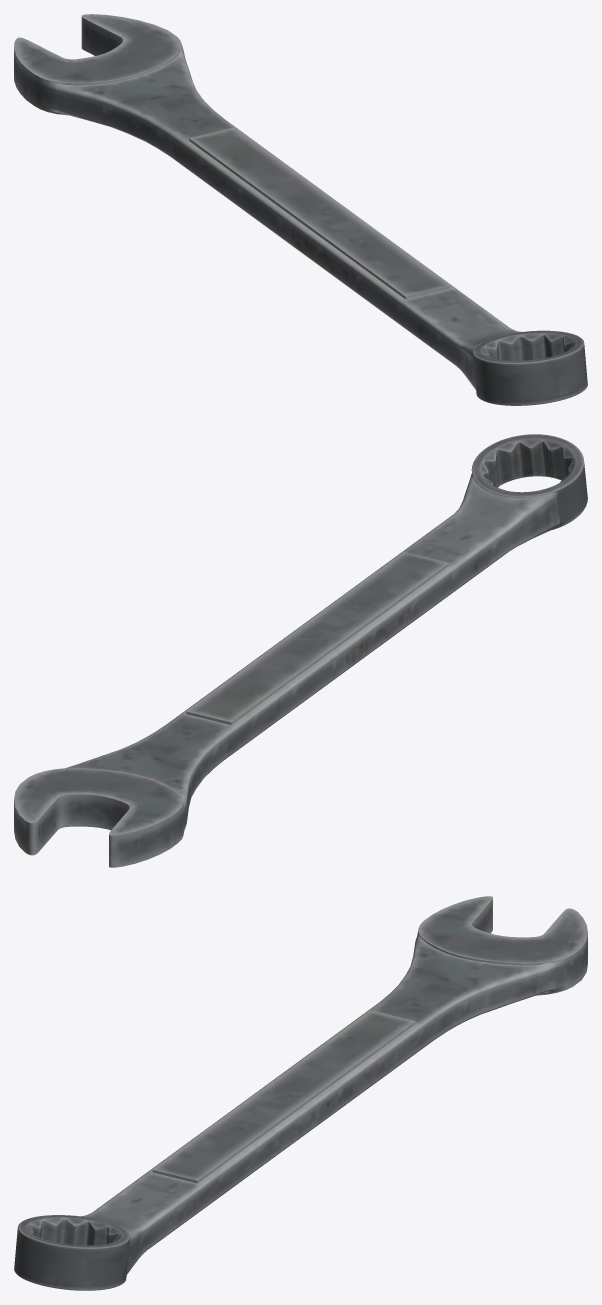
File: combination-wrench.glb
3 renders of one model, top to bottom at view 1: azimuth 30°, elevation 25°; view 2: azimuth 150°, elevation 25°; view 3: azimuth 330°, elevation 25°, orthographic.
Parts seen in each view (by area): view 1: combination_wrench; view 2: combination_wrench; view 3: combination_wrench.
Part boxes in pixels (x1,y1,x2,y2): combination_wrench: [14, 14, 587, 405]; combination_wrench: [14, 434, 587, 867]; combination_wrench: [14, 896, 587, 1290].
Bounding box in the file's own units: 0.0566 × 0.0215 × 0.337.
1 material, 1 textured.
